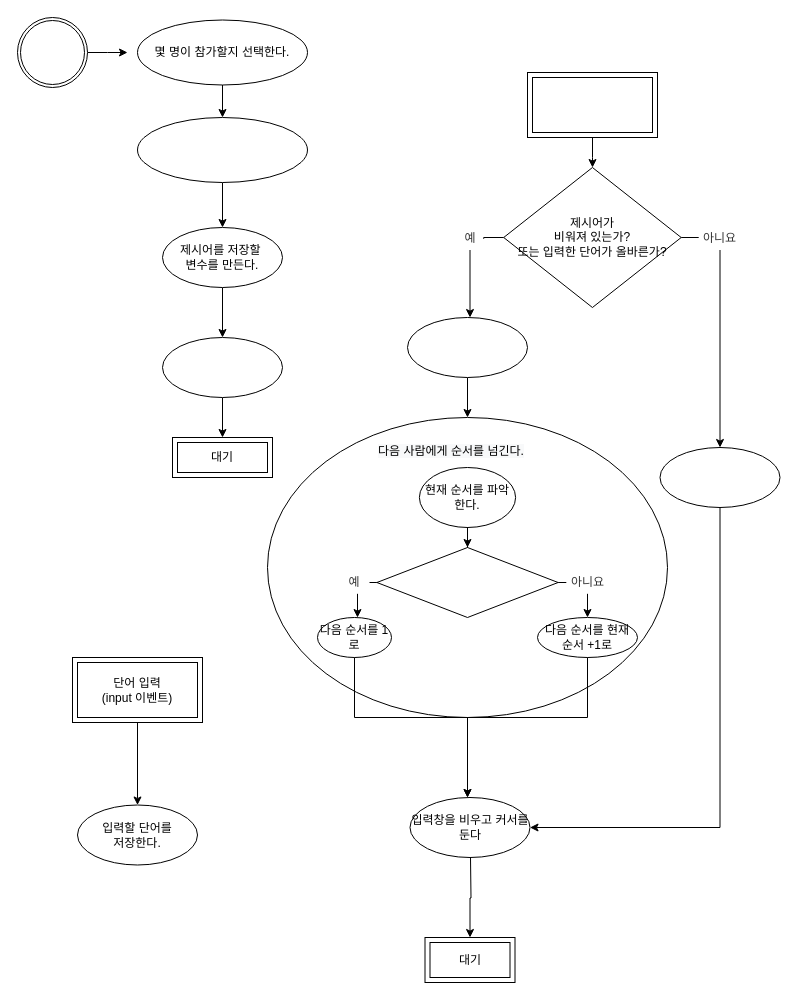
The diagram is 798 pixels wide and 1000 high, and some of its shapes have lost their labels. Each missing label, with the centre of its shape:
시작: point 52,52
입력 버튼 클릭: point 592,105
입력한 단어가 제시어가 된다.: point 467,347
입력한 단어를 저장할 변수를 만든다.: point 222,367
참가자 순서를 정한다.: point 222,149
틀렸다고 경고를 준다.: point 719,477
현재 순서에 1을 더한 값이 number보다 큰가?: point 467,582
